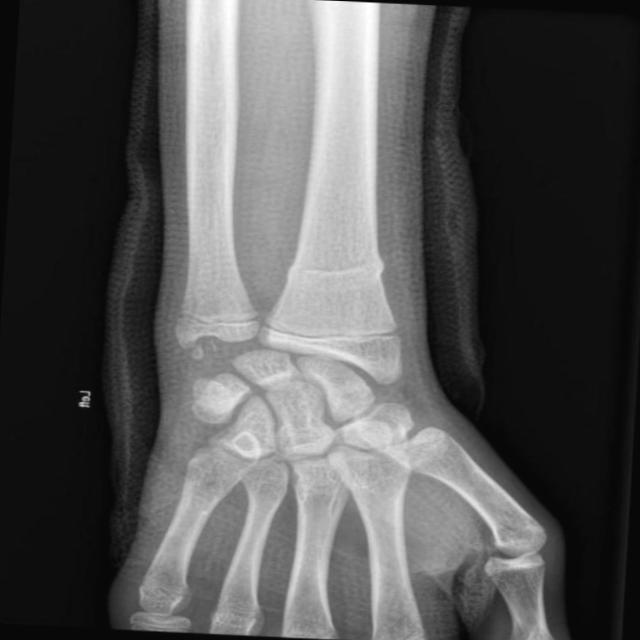Transverse Displaced: (270, 229, 416, 295)
